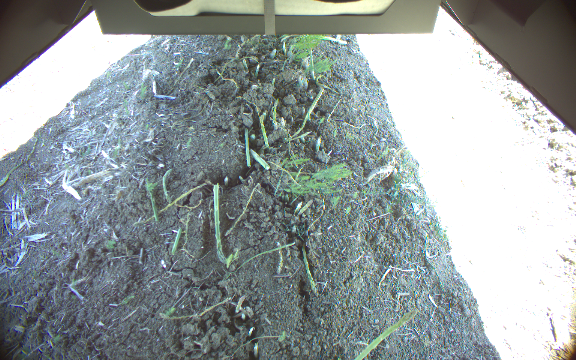aspa: (353, 310, 417, 359), (299, 87, 326, 127), (255, 106, 271, 148), (271, 98, 280, 125)
